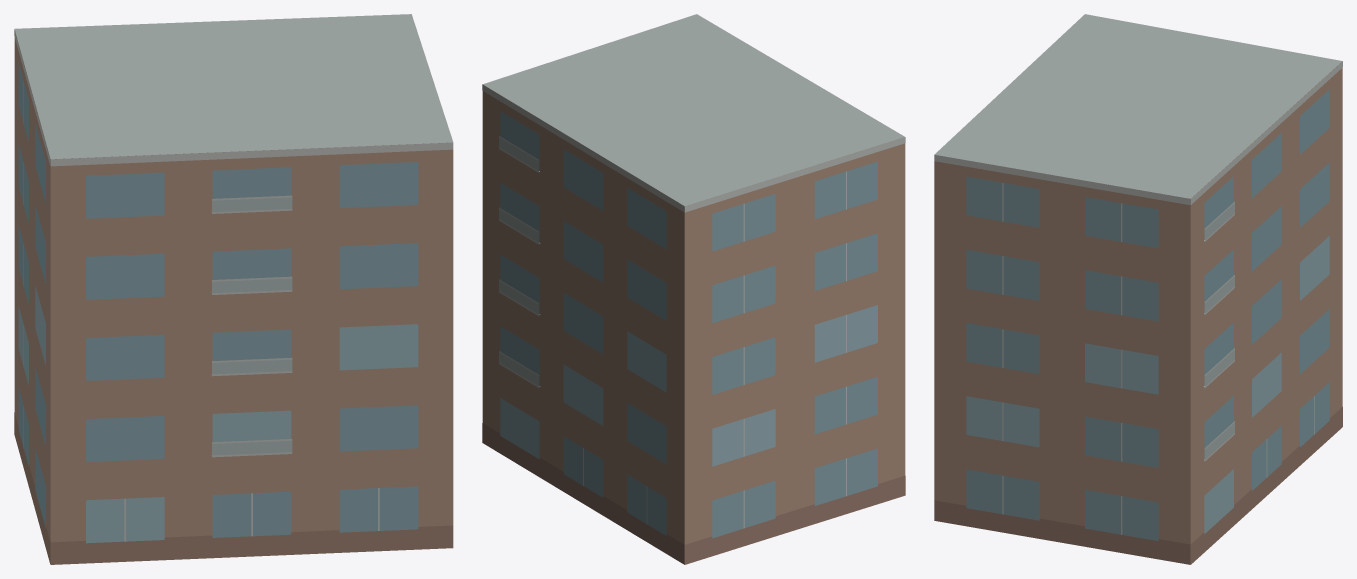
Rendered from survey-upis-33028118.glb.
The picture shows the model from 3 angles, left to right: view 1: azimuth 30°, elevation 25°; view 2: azimuth 150°, elevation 25°; view 3: azimuth 270°, elevation 25°; orthographic projection. The views are drawn at different scales.
Visible parts, largest first — view 1: survey-upis-33028118.tmp; view 2: survey-upis-33028118.tmp; view 3: survey-upis-33028118.tmp.
Boxes of the visible parts, left/top/right/bottom form: survey-upis-33028118.tmp: left=14, top=14, right=453, bottom=564; survey-upis-33028118.tmp: left=482, top=14, right=905, bottom=564; survey-upis-33028118.tmp: left=934, top=14, right=1342, bottom=564.
Size of the model in its own units: 15.06 by 13.9 by 14.07.
